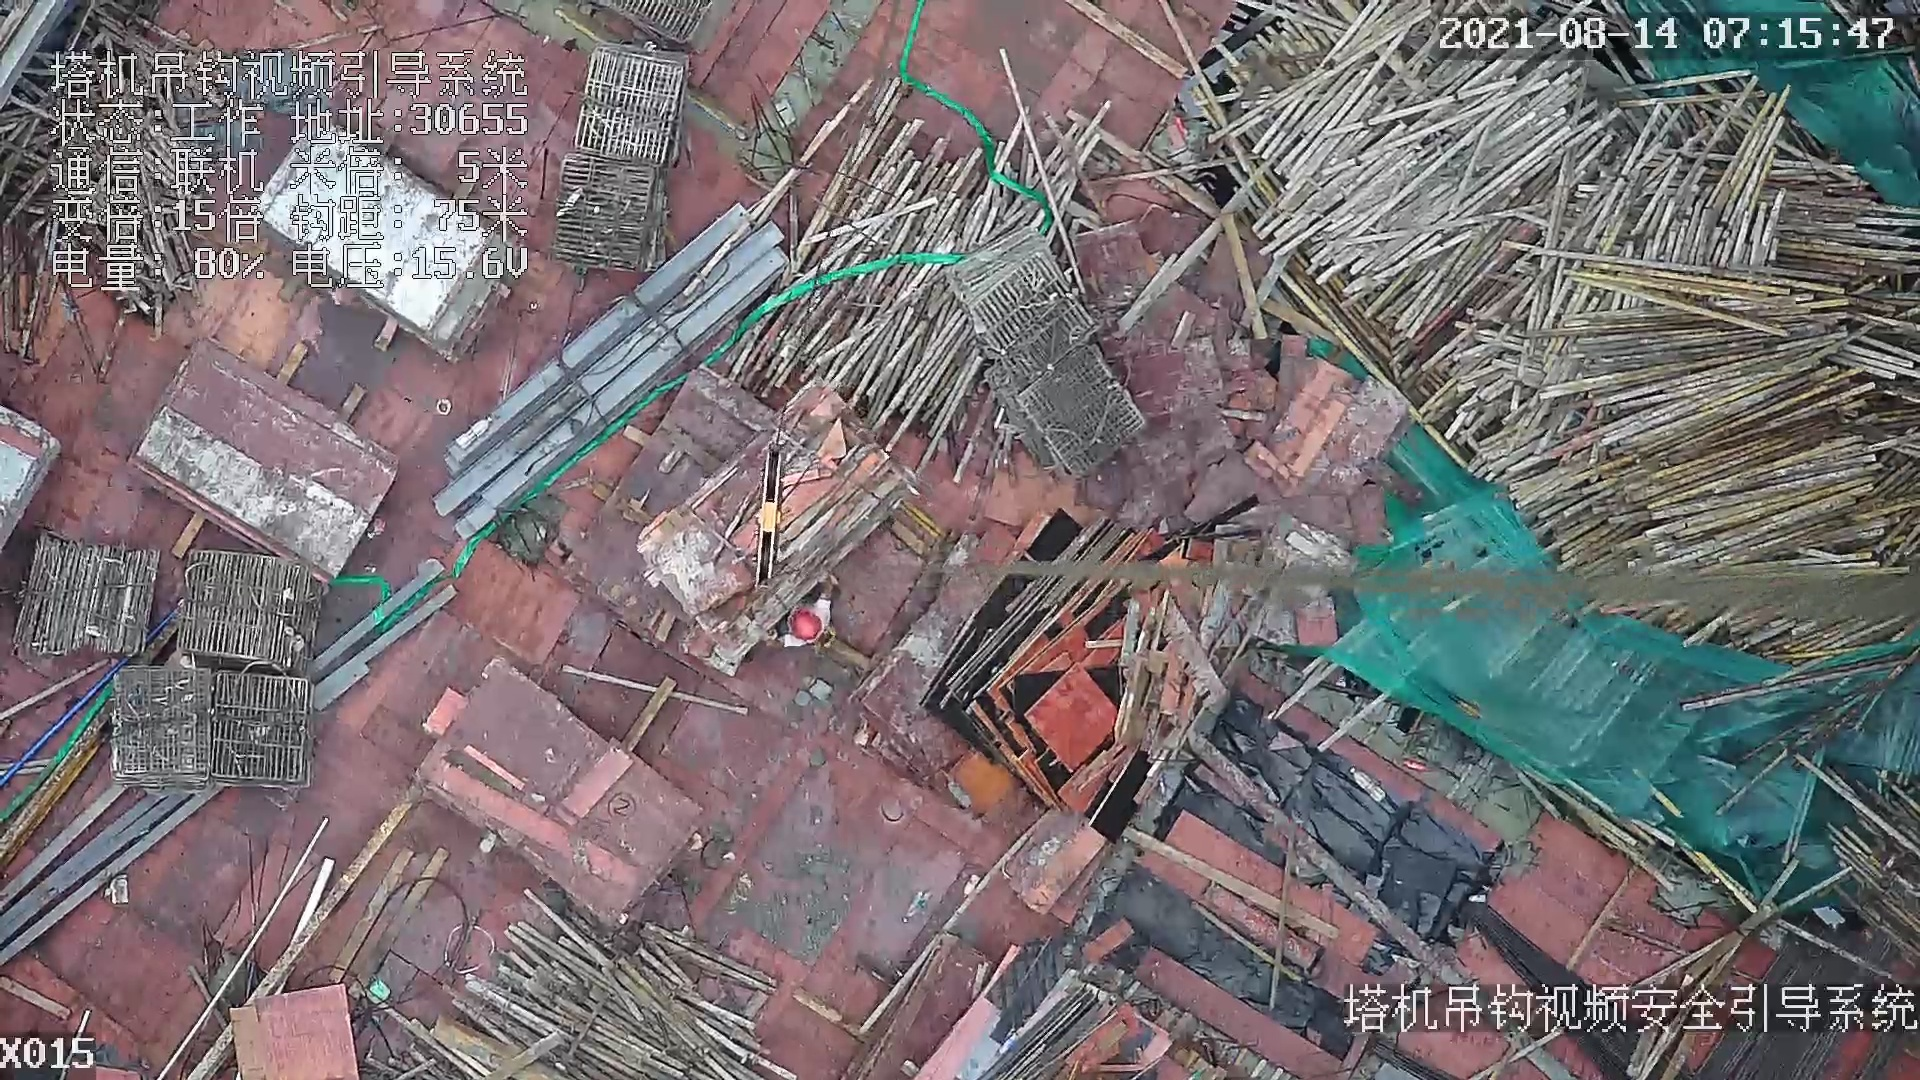helmet: (789, 604, 825, 649)
hook: (747, 444, 787, 591)
person: (753, 595, 836, 658)
